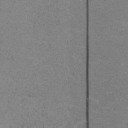surface scratch: (86, 0, 90, 128)
